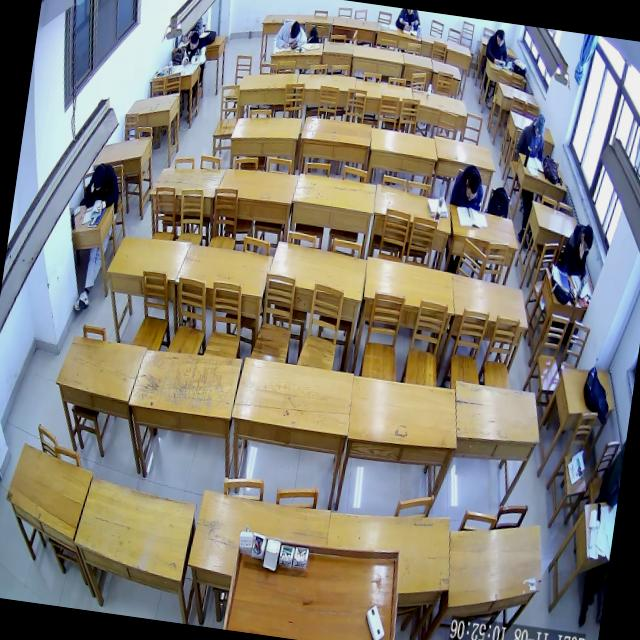bow: (273, 15, 310, 54)
down: (462, 170, 482, 204), (89, 162, 108, 194), (578, 223, 596, 256), (532, 112, 548, 141), (286, 18, 303, 42), (188, 30, 202, 53), (494, 29, 507, 49)
sit: (556, 219, 596, 285), (81, 159, 124, 217), (448, 160, 489, 213), (514, 110, 550, 160), (180, 28, 210, 71), (484, 27, 514, 69)
